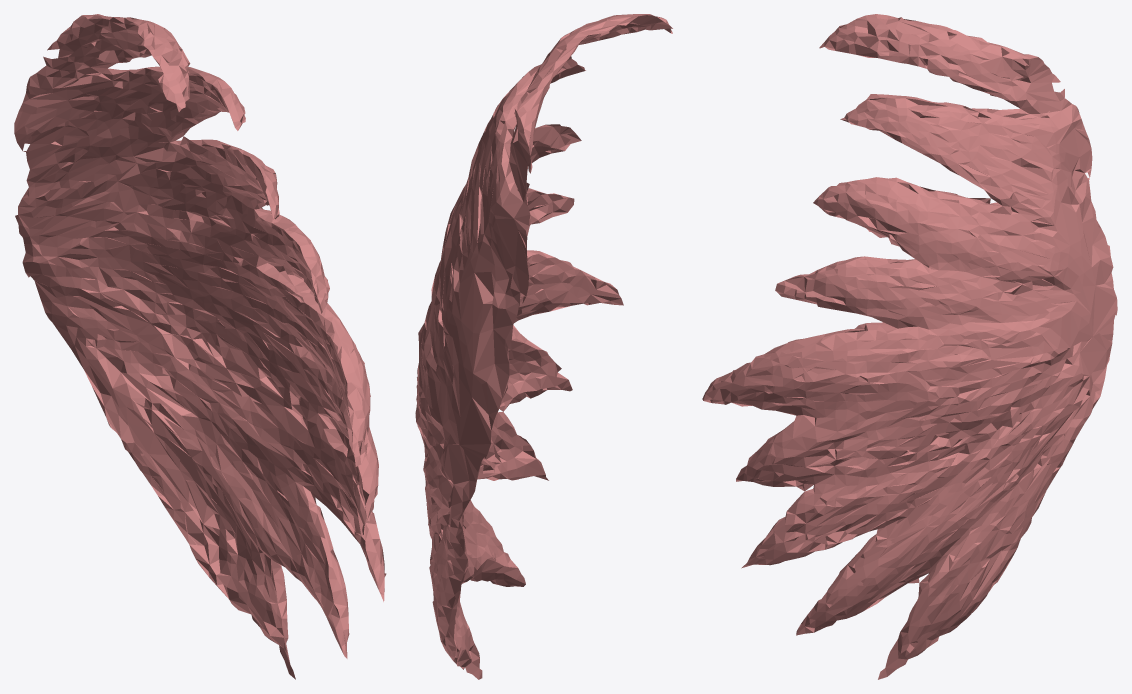
Rendered from Serratus_anterior_muscle.l.glb.
3 views of the same model, side by side, from view 1: azimuth 30°, elevation 25°; view 2: azimuth 150°, elevation 25°; view 3: azimuth 270°, elevation 25° (orthographic). The views are drawn at different scales.
Parts seen in each view (by area): view 1: Serratus_anterior_muscle.l; view 2: Serratus_anterior_muscle.l; view 3: Serratus_anterior_muscle.l.
Part boxes in pixels (x1,y1,x2,y2): Serratus_anterior_muscle.l: (14, 14, 386, 679); Serratus_anterior_muscle.l: (415, 14, 672, 679); Serratus_anterior_muscle.l: (702, 14, 1117, 679).
Size of the model in its own units: 0.0852 by 0.2736 by 0.1703.
